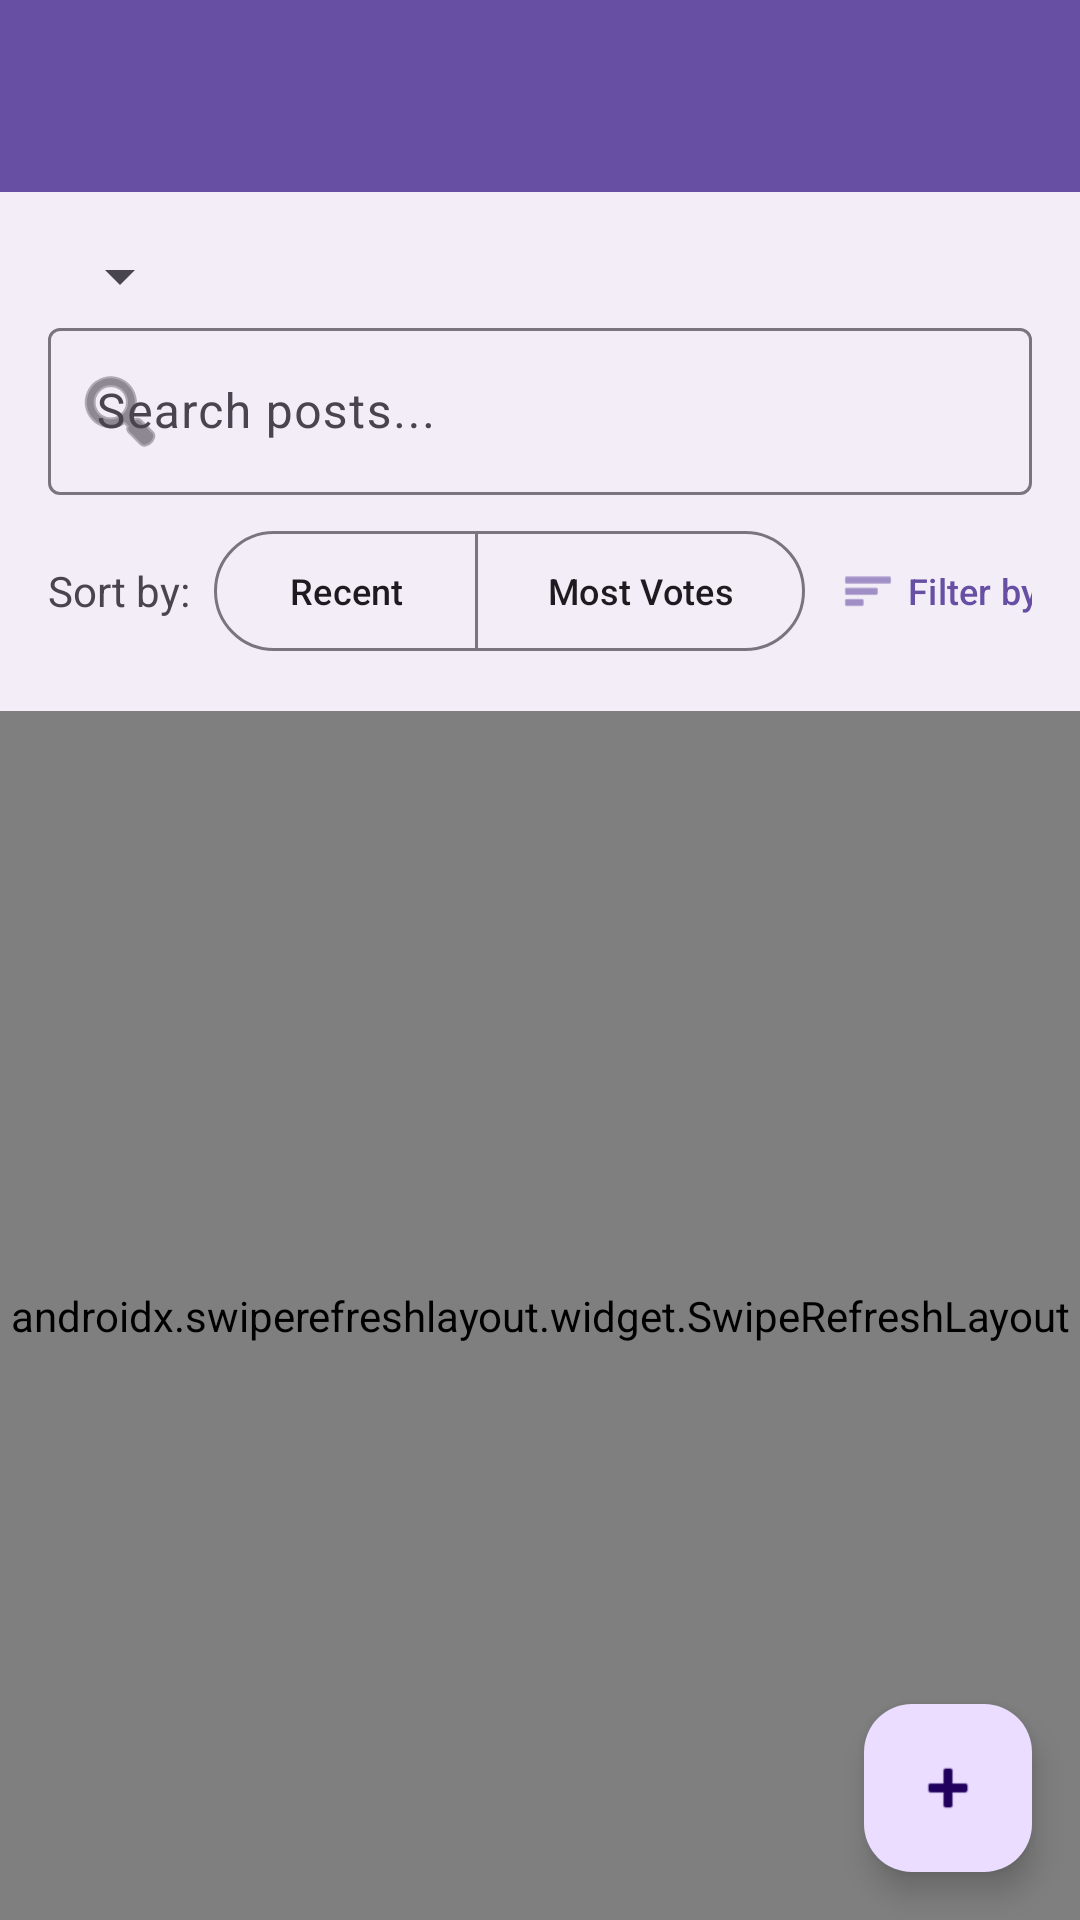

Locate icon controls on the screen. Image size 1080×1920, boxes as bbox(x1, y1, x2, y2).
Create Post: bbox(864, 1704, 1032, 1872)
